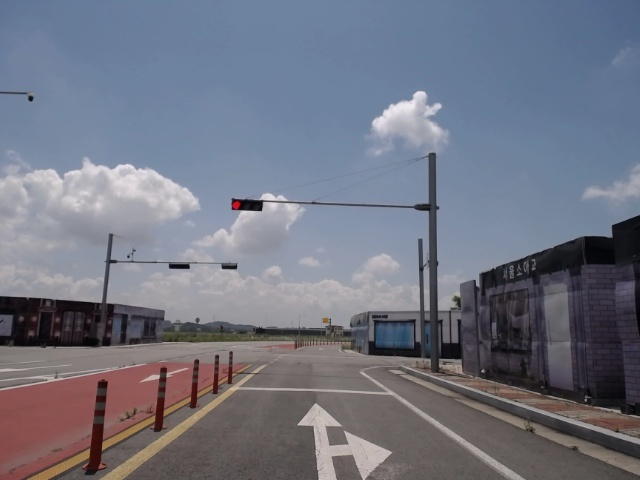red_3: (232, 199, 262, 212)
